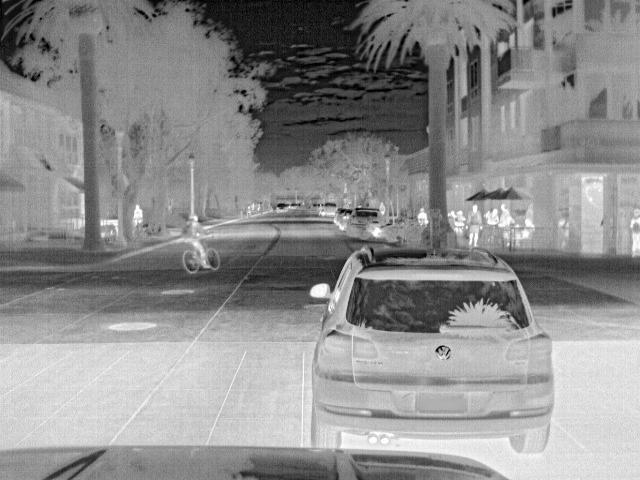car: (307, 244, 554, 456), (348, 206, 384, 239), (338, 208, 355, 230), (317, 204, 338, 216), (274, 199, 289, 212)
person: (186, 213, 214, 273), (466, 202, 484, 250), (626, 205, 639, 257), (130, 204, 147, 232), (497, 202, 516, 227), (484, 207, 500, 227), (414, 206, 429, 226), (518, 214, 533, 228)
